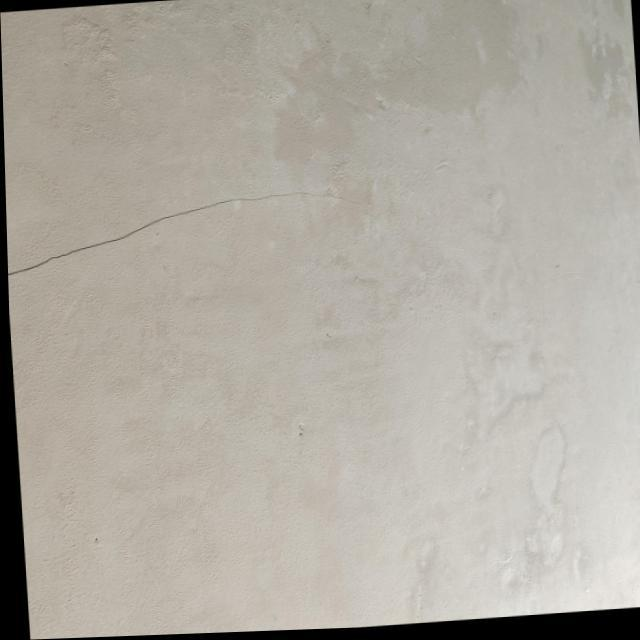Crack: (9, 189, 358, 277)
